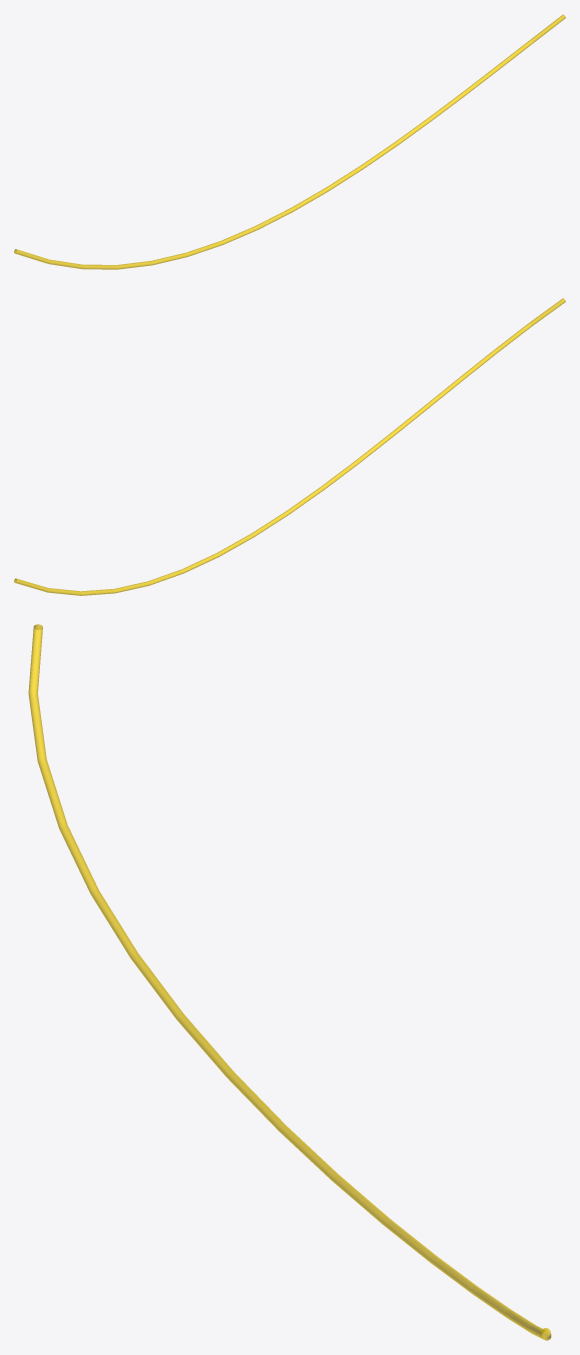
File: Event_402970704_track_32.fbx
3 renders of one model, top to bottom at view 1: azimuth 30°, elevation 25°; view 2: azimuth 210°, elevation 25°; view 3: azimuth 270°, elevation 25°, orthographic. The views are drawn at different scales.
Visible parts, largest first — view 1: Model; view 2: Model; view 3: Model.
Part boxes in pixels (x1,y1,x2,y2): Model: [14, 14, 565, 269]; Model: [14, 298, 565, 595]; Model: [28, 624, 551, 1340].
Size of the model in its own units: 6.65 by 0.8521 by 2.22.
